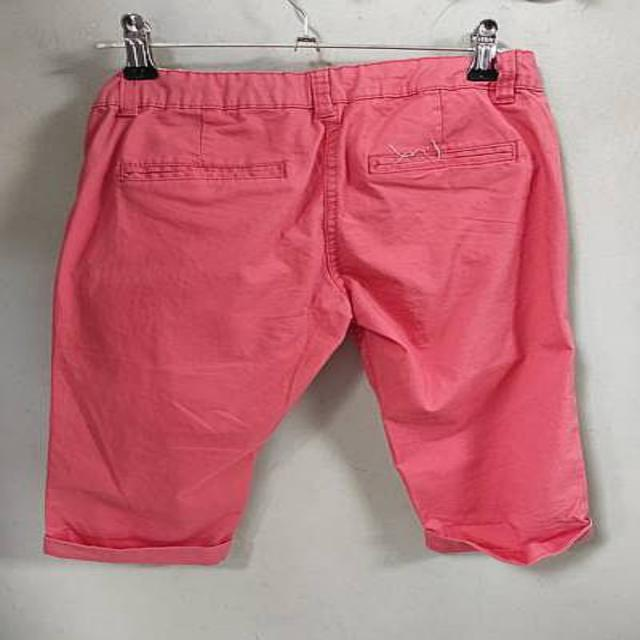SHORT: (28, 41, 606, 581)
